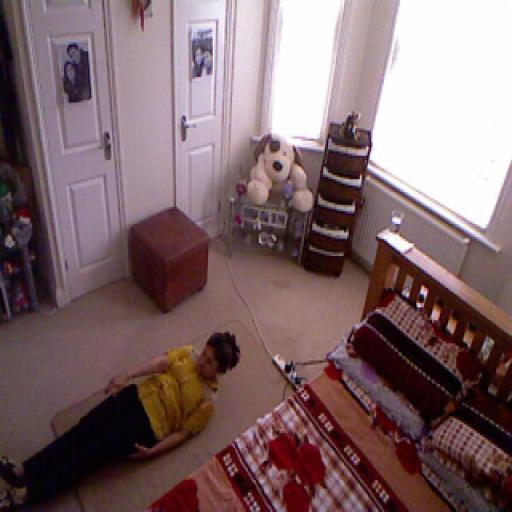Fall: (2, 332, 240, 511)
